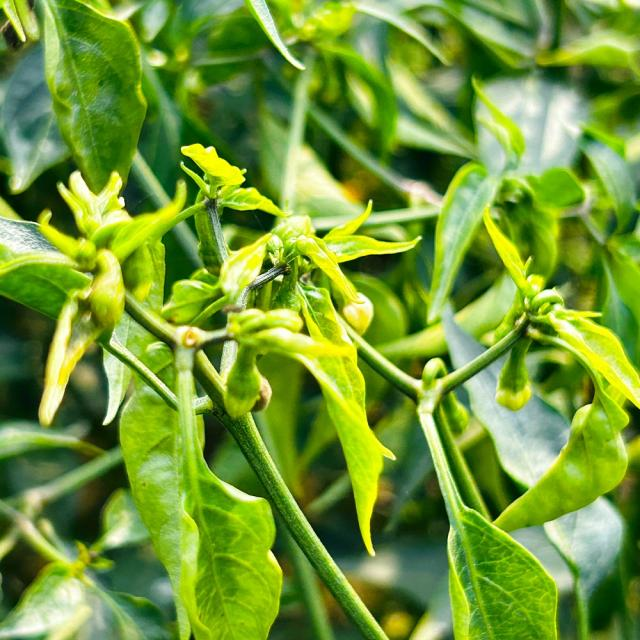Chilli_Leaf_Curl: (1, 1, 638, 638), (440, 202, 638, 533), (116, 329, 283, 639), (414, 369, 560, 638), (39, 0, 148, 196)
